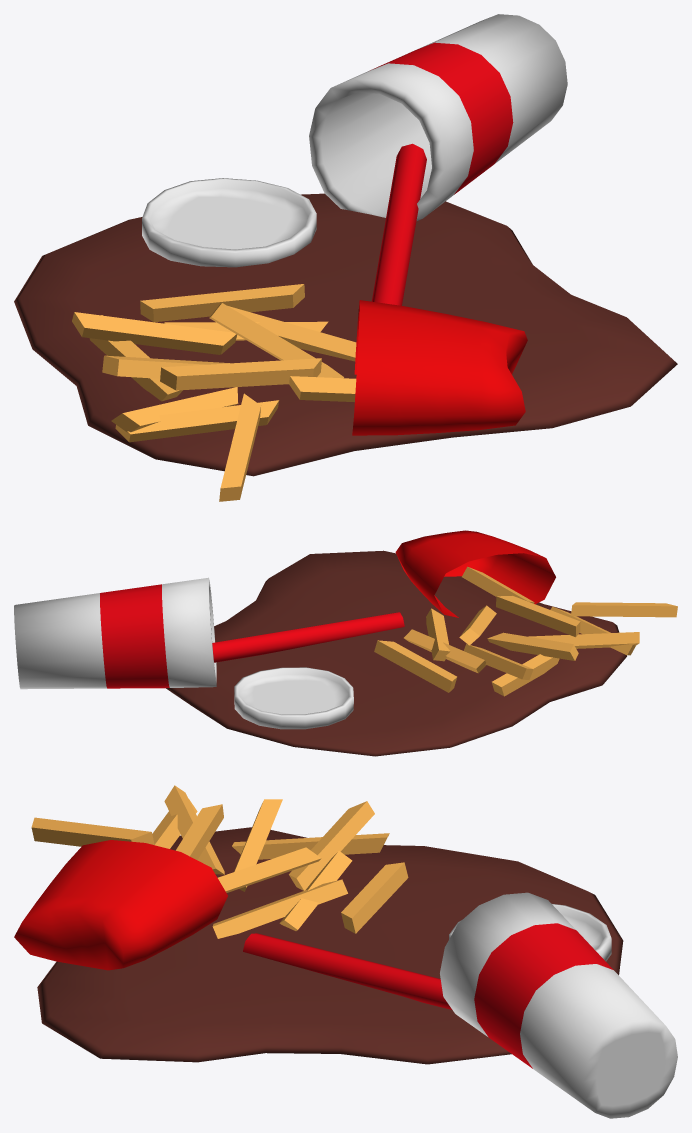
Rendered from dirty.fbx.
3 views of the same model, one above another, from view 1: azimuth 30°, elevation 25°; view 2: azimuth 150°, elevation 25°; view 3: azimuth 270°, elevation 25° (orthographic). The views are drawn at different scales.
Parts seen in each view (by area): view 1: Cube.166; view 2: Cube.166; view 3: Cube.166.
Part boxes in pixels (<box>): Cube.166: <box>14,14,677,501</box>; Cube.166: <box>14,530,677,756</box>; Cube.166: <box>14,785,677,1118</box>.
Size of the model in its own units: 113 by 23.12 by 105.
